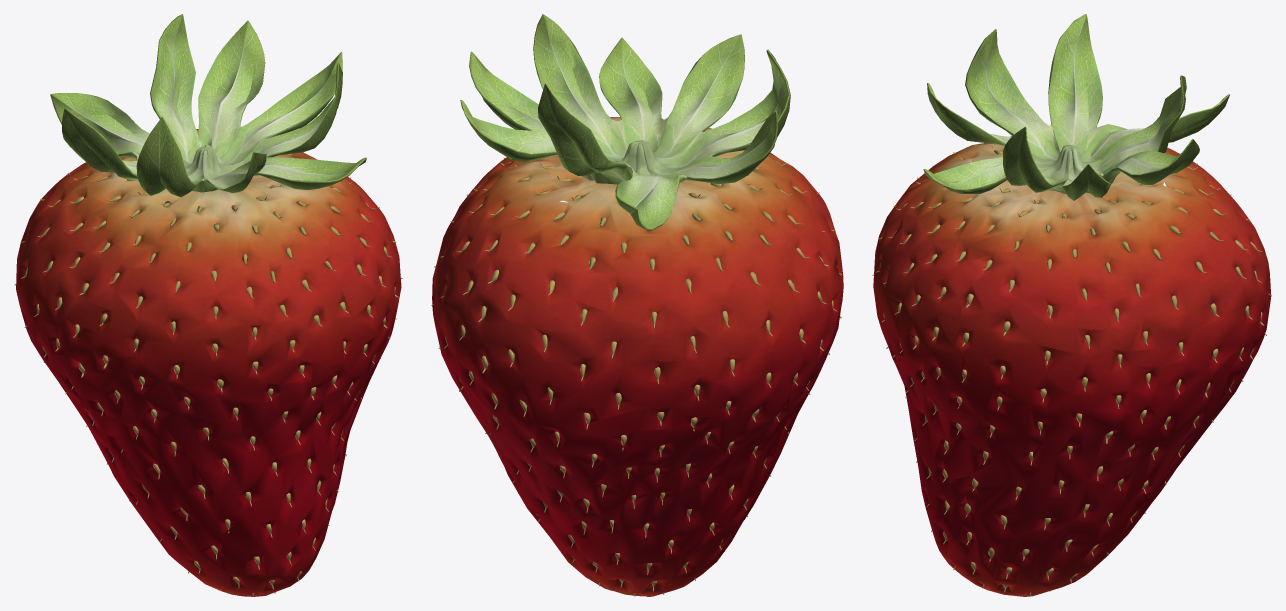
File: strawberry.glb
The picture shows the model from 3 angles, left to right: view 1: azimuth 30°, elevation 25°; view 2: azimuth 150°, elevation 25°; view 3: azimuth 270°, elevation 25°; orthographic projection. The views are drawn at different scales.
Parts seen in each view (by area): view 1: Mesh; view 2: Mesh; view 3: Mesh.
Part boxes in pixels (x1=…): Mesh: x1=14, y1=14, x2=402, y2=596; Mesh: x1=431, y1=14, x2=843, y2=596; Mesh: x1=872, y1=14, x2=1271, y2=596.
Size of the model in its own units: 0.0388 by 0.0585 by 0.0407.
Materials: 1 (1 with a texture image).
